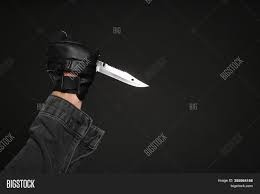knife: (95, 58, 149, 88)
